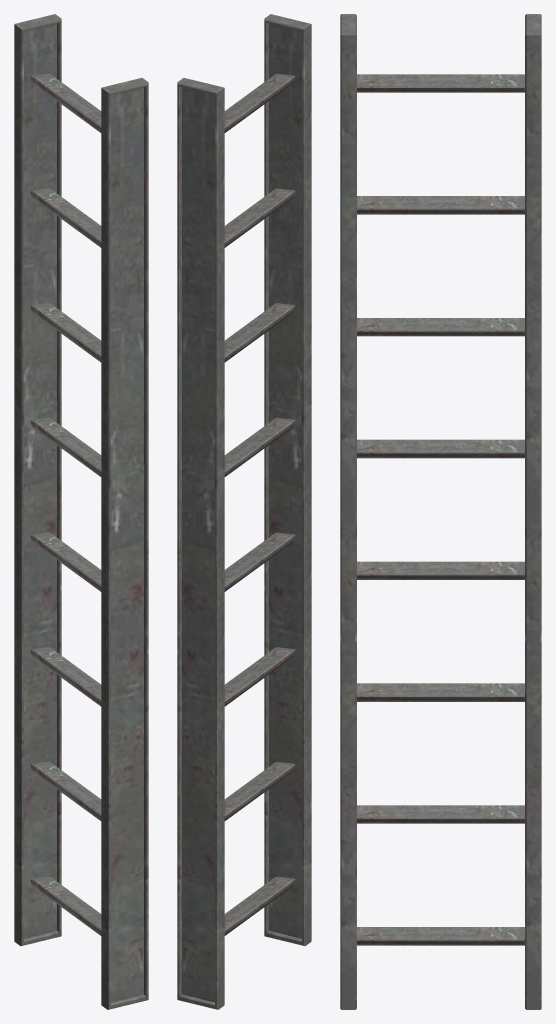
The model's file is metalladder001.glb.
The picture shows the model from 3 angles, left to right: view 1: azimuth 30°, elevation 25°; view 2: azimuth 150°, elevation 25°; view 3: azimuth 270°, elevation 25°; orthographic projection. The views are drawn at different scales.
Parts seen in each view (by area): view 1: 0_Metalladder001; view 2: 0_Metalladder001; view 3: 0_Metalladder001.
Part boxes in pixels (left/top/right/bottom): 0_Metalladder001: left=14, top=14, right=148, bottom=1009; 0_Metalladder001: left=177, top=14, right=311, bottom=1009; 0_Metalladder001: left=340, top=14, right=541, bottom=1009.
Bounding box in the file's own units: 0.1524 × 3.25 × 0.6096.
1 material, 1 textured.
